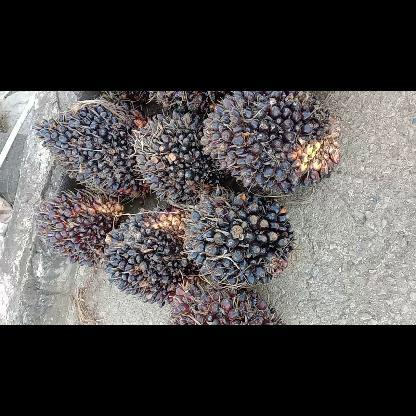TBS mentah: (198, 92, 344, 194), (30, 100, 158, 200), (180, 188, 296, 289), (99, 205, 203, 304), (128, 110, 232, 206), (38, 185, 128, 269), (163, 280, 290, 324)
